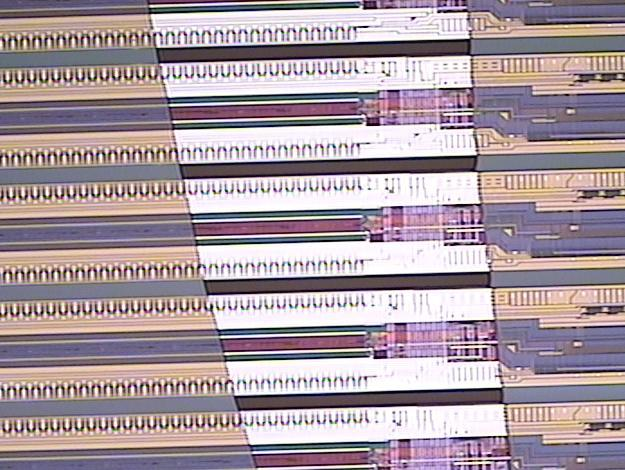COATING BAD: (148, 1, 514, 470)
